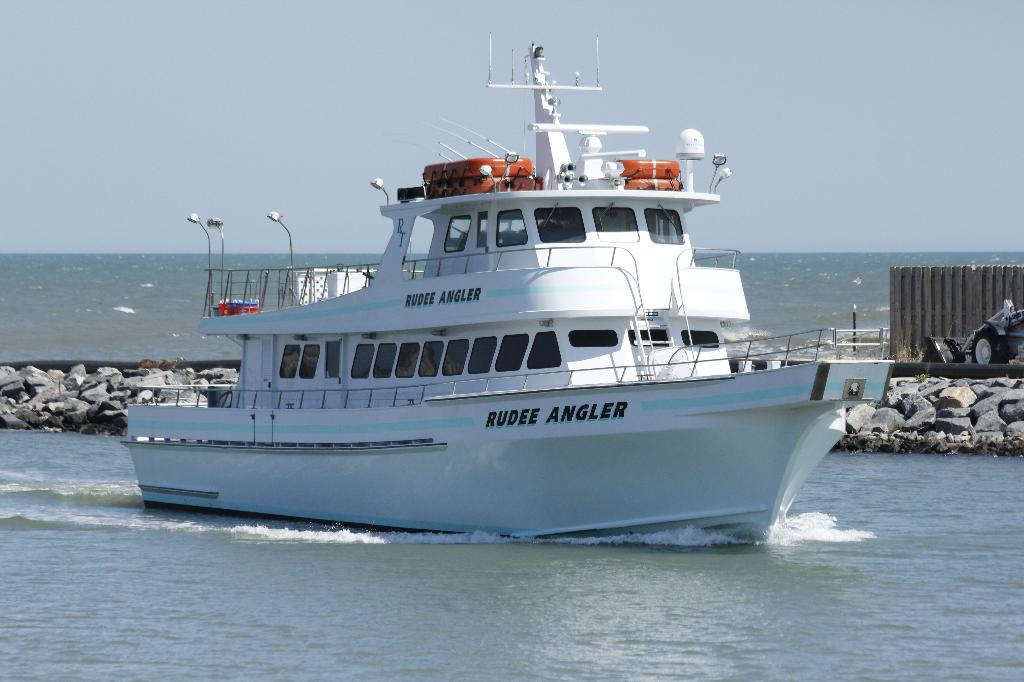PassengerShip: (116, 34, 910, 538)
